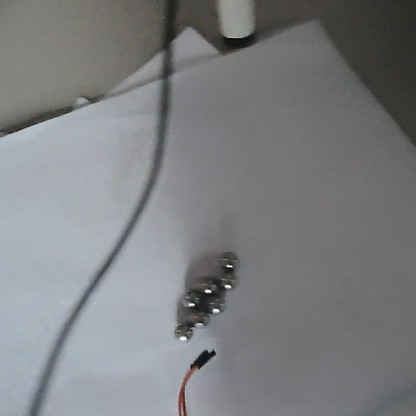ironball: (181, 287, 203, 310), (220, 268, 239, 293), (189, 307, 209, 327), (172, 323, 192, 343), (209, 294, 228, 313), (220, 251, 238, 270), (199, 276, 217, 295)
